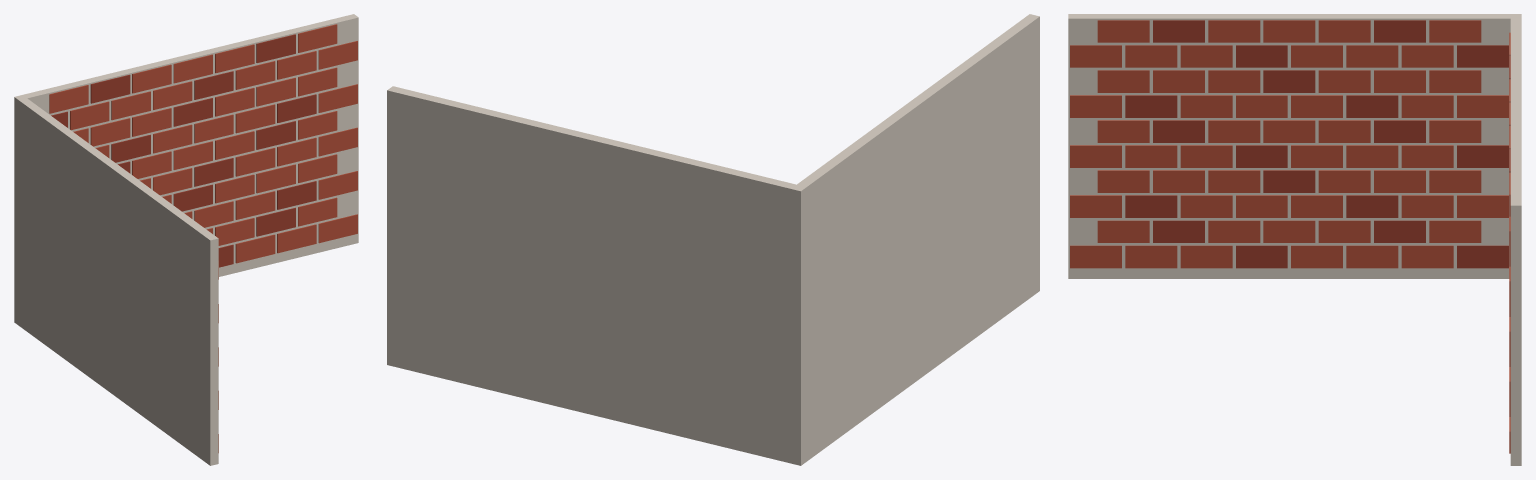
File: walls_brick.4961eaa209b3.glb
The picture shows the model from 3 angles, left to right: view 1: azimuth 30°, elevation 25°; view 2: azimuth 150°, elevation 25°; view 3: azimuth 270°, elevation 25°; orthographic projection. The views are drawn at different scales.
Parts seen in each view (by area): view 1: walls_brick; view 2: walls_brick; view 3: walls_brick.
Boxes of the visible parts, box(x1,y1,x2,y2) form: walls_brick: box(14, 14, 358, 465); walls_brick: box(387, 14, 1039, 465); walls_brick: box(1068, 14, 1521, 465).
Size of the model in its own units: 4.1 by 2.6 by 4.1.
